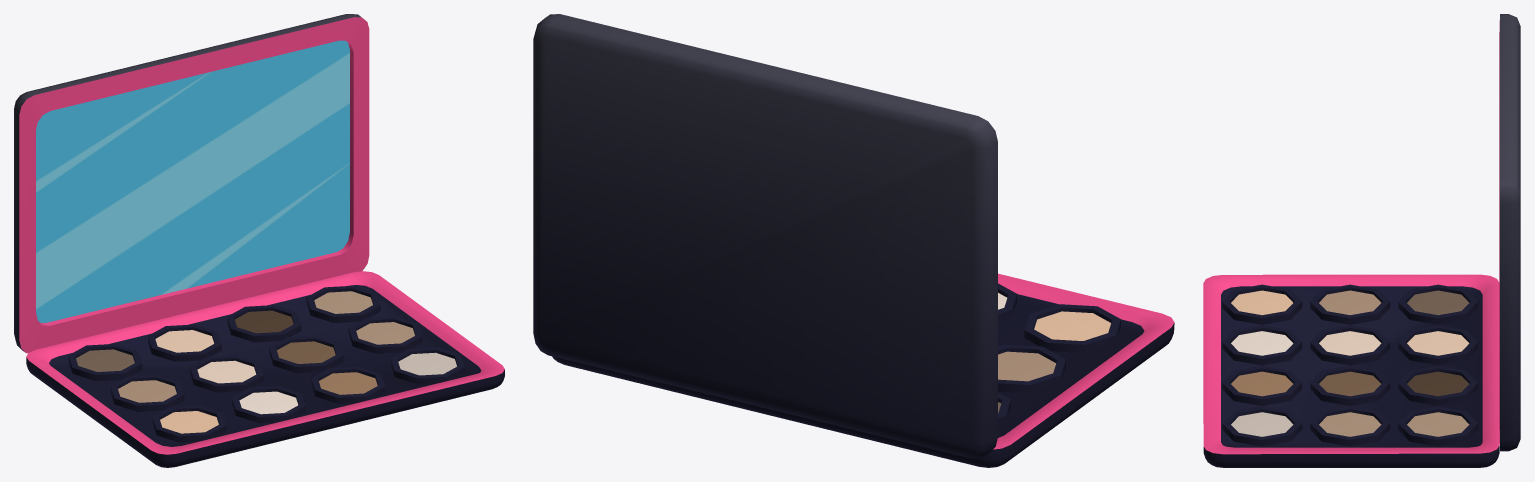
Rendered from Eyeshadow_Palette_01.fbx.
3 renders of one model, left to right at view 1: azimuth 30°, elevation 25°; view 2: azimuth 150°, elevation 25°; view 3: azimuth 270°, elevation 25°, orthographic. The views are drawn at different scales.
Parts seen in each view (by area): view 1: Eyeshadow_Palette_01; view 2: Eyeshadow_Palette_01; view 3: Eyeshadow_Palette_01.
Boxes of the visible parts, <box> form: Eyeshadow_Palette_01: <box>14,14,504,467</box>; Eyeshadow_Palette_01: <box>533,14,1174,467</box>; Eyeshadow_Palette_01: <box>1203,14,1520,467</box>.
Size of the model in its own units: 0.1838 by 0.1362 by 0.1374.
Materials: 1 (1 with a texture image).
